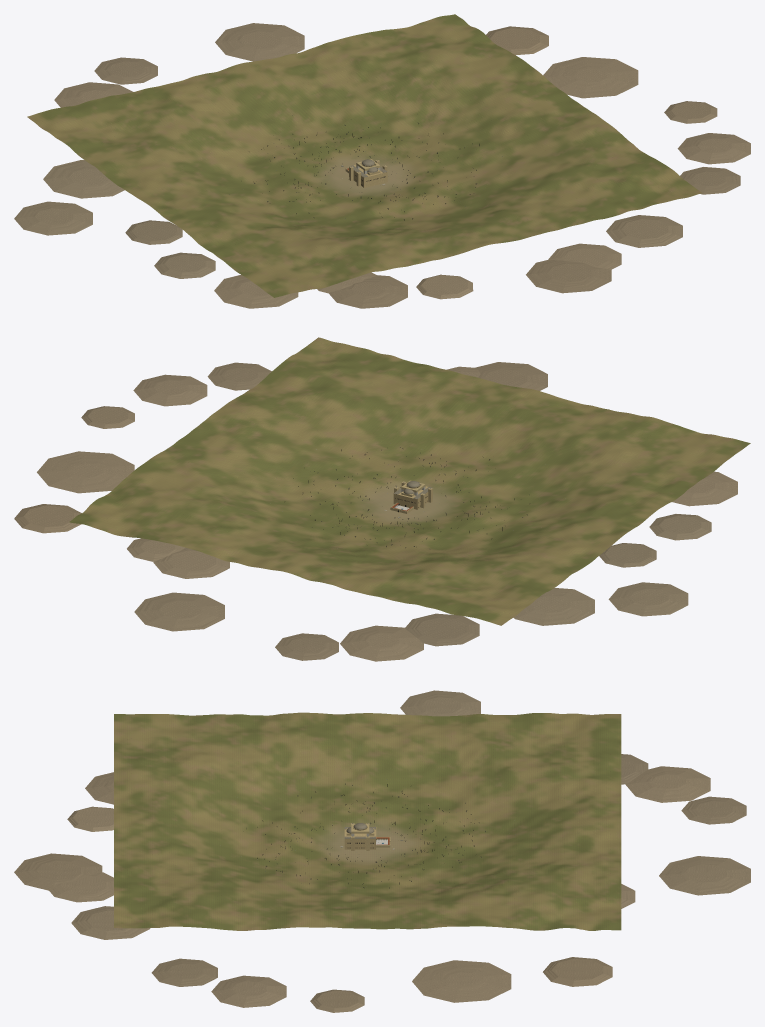
Rendered from ayasofya-ana-kubbe-baked.glb.
3 views of the same model, one above another, from view 1: azimuth 30°, elevation 25°; view 2: azimuth 150°, elevation 25°; view 3: azimuth 270°, elevation 25° (orthographic). The views are drawn at different scales.
Visible parts, largest first — view 1: ayasofya-ana-kubbe-terrain, ayasofya-ana-kubbe-ground, ayasofya-ana-kubbe-near; view 2: ayasofya-ana-kubbe-terrain, ayasofya-ana-kubbe-ground, ayasofya-ana-kubbe-near; view 3: ayasofya-ana-kubbe-terrain, ayasofya-ana-kubbe-ground, ayasofya-ana-kubbe-near.
Part boxes in pixels (x1,y1,x2,y2): ayasofya-ana-kubbe-terrain: [27, 14, 702, 297]; ayasofya-ana-kubbe-ground: [14, 23, 750, 308]; ayasofya-ana-kubbe-near: [342, 159, 387, 187]; ayasofya-ana-kubbe-terrain: [69, 337, 750, 625]; ayasofya-ana-kubbe-ground: [14, 362, 737, 661]; ayasofya-ana-kubbe-near: [384, 480, 432, 513]; ayasofya-ana-kubbe-terrain: [114, 712, 621, 930]; ayasofya-ana-kubbe-ground: [14, 690, 750, 1012]; ayasofya-ana-kubbe-near: [340, 823, 394, 852].
Bounding box in the file's own units: 1992 × 76.98 × 1923.
Materials: 16 (12 with a texture image).
